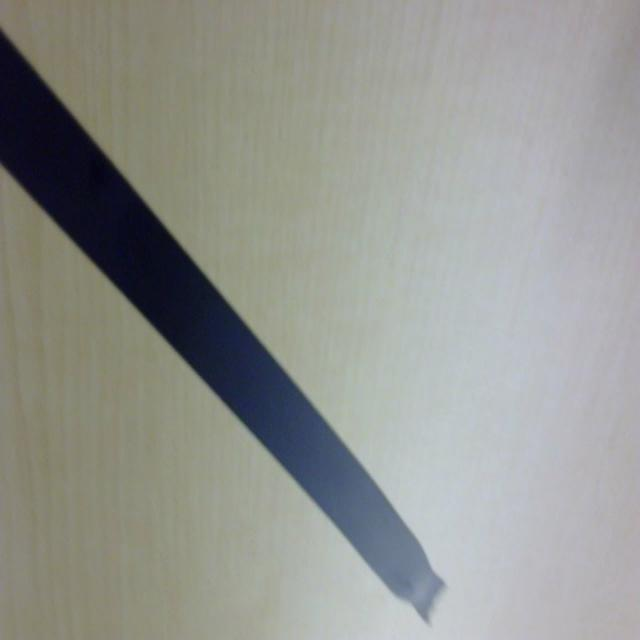tape: (0, 27, 448, 623)
